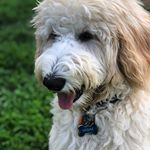puppy: (30, 1, 150, 117)
